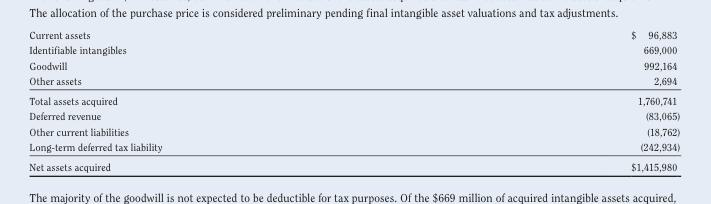table: (28, 28, 679, 172)
table column: (28, 28, 395, 172), (395, 28, 679, 172)
table row: (28, 72, 679, 90), (28, 90, 679, 108), (28, 138, 679, 156), (28, 156, 679, 172), (28, 42, 679, 57), (28, 57, 679, 72), (28, 108, 679, 123), (28, 123, 679, 138), (28, 28, 679, 42)
